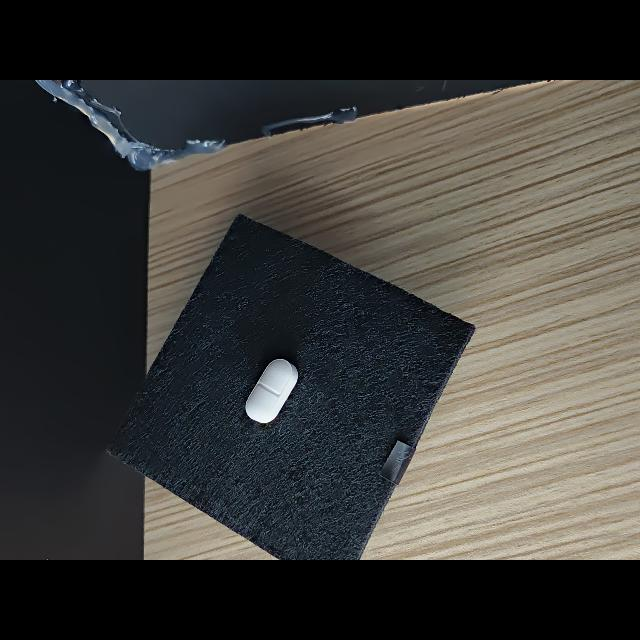Intact Pill: (245, 359, 298, 423)
